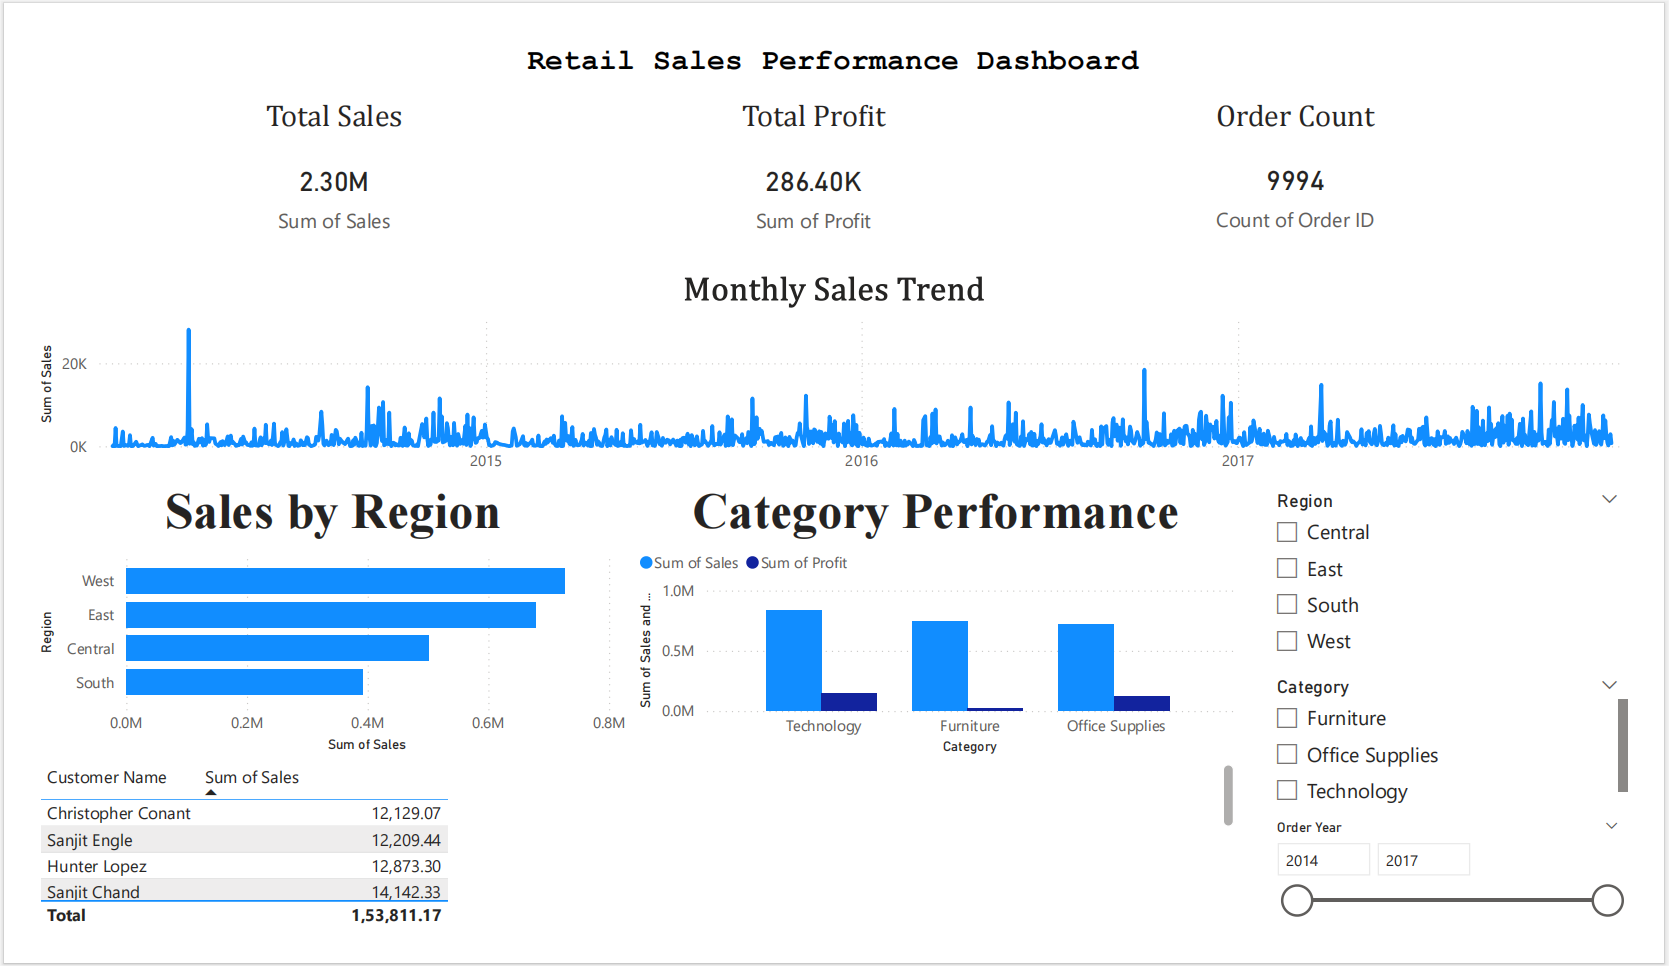

The dashboard page shown, as its layout file describes it:
{"tool":"powerbi","page":{"name":"Dashboard","canvas":[1280,720],"ordinal":0},"visuals":[{"type":"card","title":"Total Sales","fields":{"Values":["Sum(clean_sales_data.Sales)"]},"box":[94.8,52.9,291.7,128],"z":0},{"type":"card","title":"Total Profit","fields":{"Values":["Sum(clean_sales_data.Profit)"]},"box":[476.9,52.9,294.2,128],"z":1000},{"type":"card","title":"Order Count","fields":{"Values":["CountNonNull(clean_sales_data.Order ID)"]},"box":[861.5,52.9,295.4,126.8],"z":2000},{"type":"lineChart","title":"Monthly Sales Trend","fields":{"Y":["Sum(clean_sales_data.Sales)"],"Category":["clean_sales_data.Order Date"]},"box":[0,190.8,1280,169.8],"z":3000},{"type":"clusteredBarChart","title":"Sales by Region","fields":{"Y":["Sum(clean_sales_data.Sales)"],"Category":["clean_sales_data.Region"]},"box":[0,359.4,478.8,220.3],"z":4000},{"type":"clusteredColumnChart","title":"Category Performance","fields":{"Category":["clean_sales_data.Category"],"Y":["Sum(clean_sales_data.Sales)","Sum(clean_sales_data.Profit)"]},"box":[478.8,359.4,486.2,222.8],"z":5000},{"type":"tableEx","fields":{"Values":["clean_sales_data.Customer Name","Sum(clean_sales_data.Sales)"]},"box":[0,579.7,964.9,140.3],"z":6000},{"type":"slicer","fields":{"Values":["clean_sales_data.Region"]},"box":[982.2,360.6,297.8,148.9],"z":7000},{"type":"slicer","fields":{"Values":["clean_sales_data.Category"]},"box":[982.2,509.5,297.8,114.5],"z":8000},{"type":"slicer","fields":{"Values":["clean_sales_data.Order Year"]},"box":[982.2,624,297.8,96],"z":9000},{"type":"textbox","box":[0,3.8,1279.7,49.4],"z":10000}]}

Visuals, with their boxes in screenshot pixels (x1, y1, x2, y2), scaled from the page's 1280x720 canvas onto the 1669x966 screenshot:
"Total Sales" card: bbox=(124, 71, 504, 243)
"Total Profit" card: bbox=(622, 71, 1005, 243)
"Order Count" card: bbox=(1123, 71, 1508, 241)
"Monthly Sales Trend" lineChart: bbox=(0, 256, 1668, 484)
"Sales by Region" clusteredBarChart: bbox=(0, 482, 624, 778)
"Category Performance" clusteredColumnChart: bbox=(624, 482, 1258, 781)
tableEx - clean_sales_data.Customer Name x Sum(clean_sales_data.Sales): bbox=(0, 778, 1258, 965)
slicer - clean_sales_data.Region: bbox=(1281, 484, 1668, 684)
slicer - clean_sales_data.Category: bbox=(1281, 684, 1668, 837)
slicer - clean_sales_data.Order Year: bbox=(1281, 837, 1668, 965)
textbox: bbox=(0, 5, 1668, 71)
